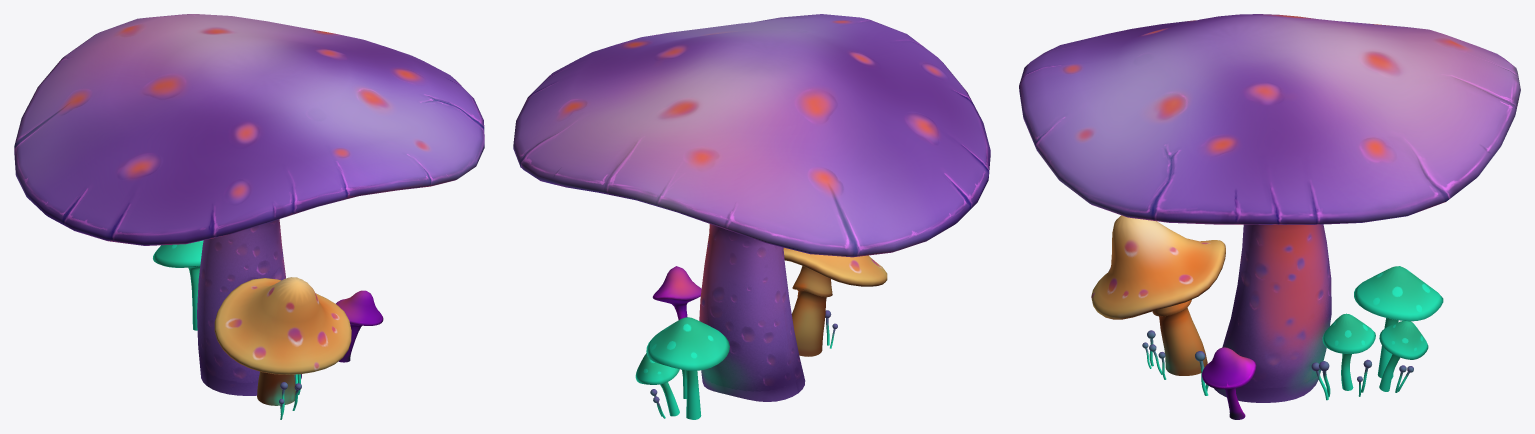
File: mushroms_2 1.fbx
3 renders of one model, left to right at view 1: azimuth 30°, elevation 25°; view 2: azimuth 150°, elevation 25°; view 3: azimuth 270°, elevation 25°, orthographic. The views are drawn at different scales.
Visible parts, largest first — view 1: Circle, Circle.001, Circle.002, Circle.005; view 2: Circle, Circle.001, Circle.002, Circle.005, Circle.006; view 3: Circle, Circle.001, Circle.002, Circle.005, Circle.004, Circle.006.
Part boxes in pixels (<box>): Circle: <box>14,14,484,395</box>; Circle.001: <box>214,277,351,405</box>; Circle.002: <box>153,240,203,330</box>; Circle.005: <box>336,290,383,362</box>; Circle: <box>513,14,990,401</box>; Circle.001: <box>783,247,887,356</box>; Circle.002: <box>646,317,729,419</box>; Circle.005: <box>652,266,701,319</box>; Circle.006: <box>635,353,679,416</box>; Circle: <box>1019,14,1520,402</box>; Circle.001: <box>1091,215,1225,375</box>; Circle.002: <box>1354,266,1443,378</box>; Circle.005: <box>1202,347,1256,419</box>; Circle.004: <box>1322,313,1375,390</box>; Circle.006: <box>1379,321,1428,391</box>.
Size of the model in its own units: 370 by 278 by 364.
1 material, 1 textured.
